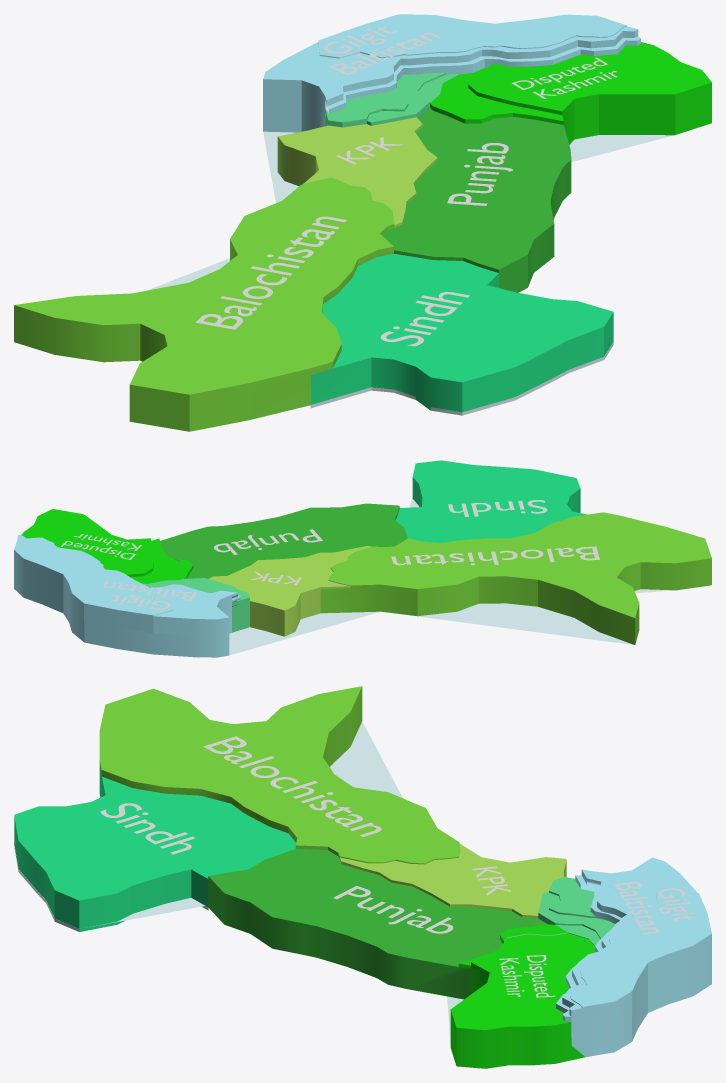
File: Pakistan 1.fbx
The picture shows the model from 3 angles, top to bottom: view 1: azimuth 30°, elevation 25°; view 2: azimuth 150°, elevation 25°; view 3: azimuth 270°, elevation 25°; orthographic projection. The views are drawn at different scales.
Visible parts, largest first — view 1: Cube.001, Text.002, Text.005, Text, Text.003, Text.004; view 2: Cube.001, Text.002, Text.005, Text, Text.003, Text.004; view 3: Cube.001, Text.002, Text.005, Text, Text.003, Text.004.
Boxes of the visible parts, x1=… form: Cube.001: x1=14, y1=14, x2=711, y2=431; Text.002: x1=195, y1=216, x2=346, y2=329; Text.005: x1=324, y1=26, x2=440, y2=74; Text: x1=447, y1=143, x2=513, y2=205; Text.003: x1=380, y1=292, x2=469, y2=346; Text.004: x1=511, y1=57, x2=616, y2=98; Cube.001: x1=14, y1=460, x2=711, y2=657; Text.002: x1=391, y1=546, x2=599, y2=565; Text.005: x1=103, y1=581, x2=196, y2=609; Text: x1=214, y1=529, x2=322, y2=554; Text.003: x1=448, y1=500, x2=547, y2=516; Text.004: x1=61, y1=534, x2=141, y2=559; Cube.001: x1=14, y1=686, x2=711, y2=1068; Text.002: x1=203, y1=736, x2=381, y2=836; Text.005: x1=614, y1=881, x2=694, y2=934; Text: x1=333, y1=885, x2=453, y2=933; Text.003: x1=100, y1=803, x2=195, y2=854; Text.004: x1=499, y1=955, x2=555, y2=997.
Size of what is drawn, in the model's own units: 20528 by 1534 by 17417.
